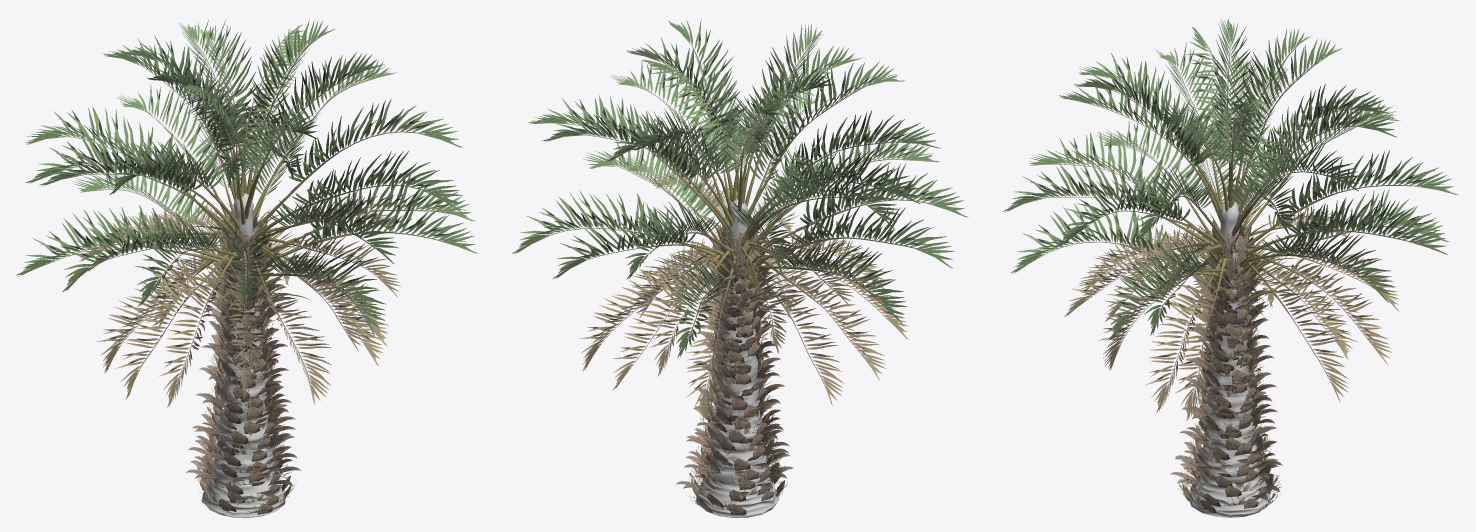
3 views of the same model, side by side, from view 1: azimuth 30°, elevation 25°; view 2: azimuth 150°, elevation 25°; view 3: azimuth 270°, elevation 25° (orthographic). The views are drawn at different scales.
Parts seen in each view (by area): view 1: _1_HP_Palm3_Leaf_0, _1_HP_Palm3_Leaf_2_0, _1_HP_Palm3_Trunk_0; view 2: _1_HP_Palm3_Leaf_0, _1_HP_Palm3_Leaf_2_0, _1_HP_Palm3_Trunk_0; view 3: _1_HP_Palm3_Leaf_0, _1_HP_Palm3_Leaf_2_0, _1_HP_Palm3_Trunk_0.
Boxes of the visible parts, x1,y1,x2,y2 form: _1_HP_Palm3_Leaf_0: (15,19,478,408); _1_HP_Palm3_Leaf_2_0: (137,106,360,514); _1_HP_Palm3_Trunk_0: (201,193,285,517); _1_HP_Palm3_Leaf_0: (512,19,968,421); _1_HP_Palm3_Leaf_2_0: (627,116,846,514); _1_HP_Palm3_Trunk_0: (696,198,779,517); _1_HP_Palm3_Leaf_0: (1002,17,1458,421); _1_HP_Palm3_Leaf_2_0: (1120,113,1339,512); _1_HP_Palm3_Trunk_0: (1189,201,1270,517).
Bounding box in the file's own units: 9.98 × 10.9 × 10.21.
